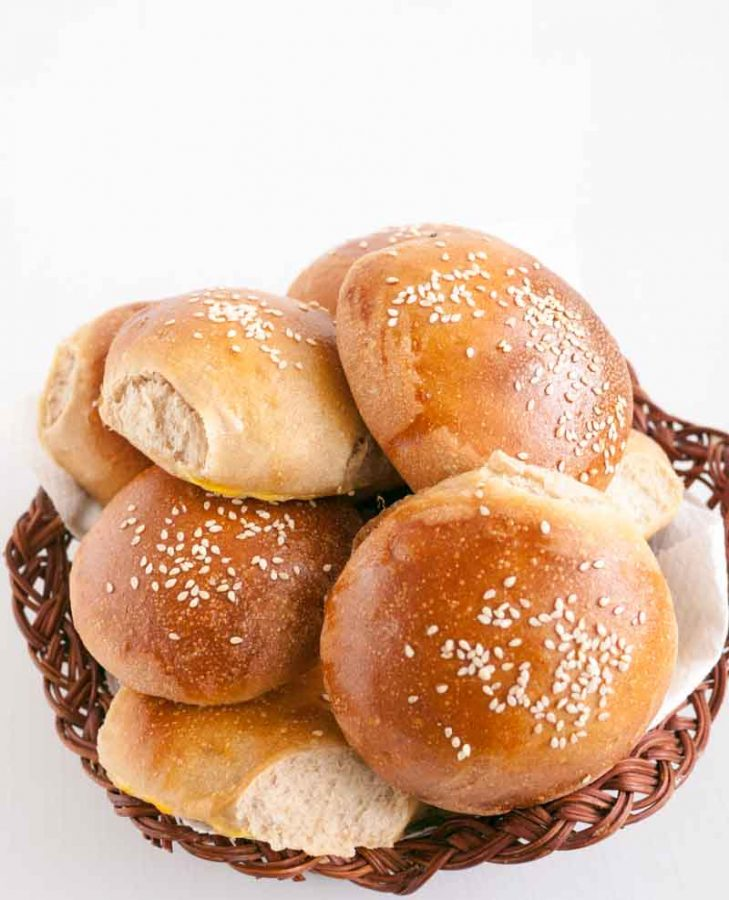hamburger_buns: (320, 459, 708, 832), (71, 432, 402, 729), (344, 235, 644, 519), (101, 298, 391, 530)
